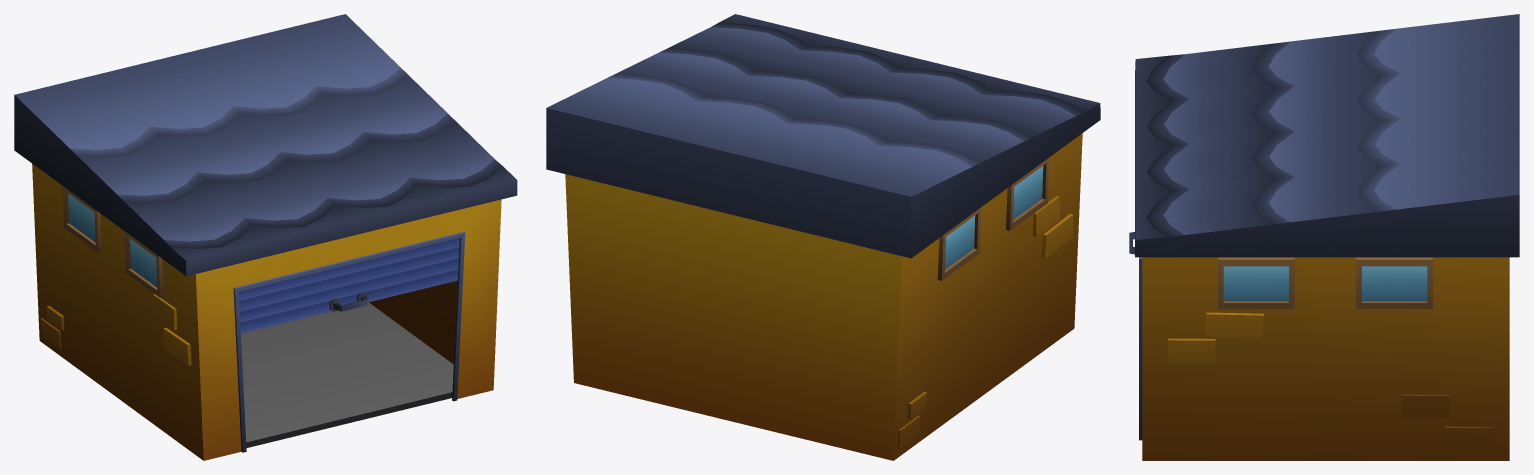
The model's file is Garage_02B.fbx.
3 renders of one model, left to right at view 1: azimuth 30°, elevation 25°; view 2: azimuth 150°, elevation 25°; view 3: azimuth 270°, elevation 25°, orthographic. The views are drawn at different scales.
Visible parts, largest first — view 1: Garage_02B; view 2: Garage_02B; view 3: Garage_02B.
Boxes of the visible parts, box(x1,y1,x2,y2) form: Garage_02B: box(14, 14, 517, 460); Garage_02B: box(546, 14, 1100, 460); Garage_02B: box(1129, 14, 1519, 460).
Bounding box in the file's own units: 479 × 341 × 435.
Materials: 3 (3 with a texture image).
